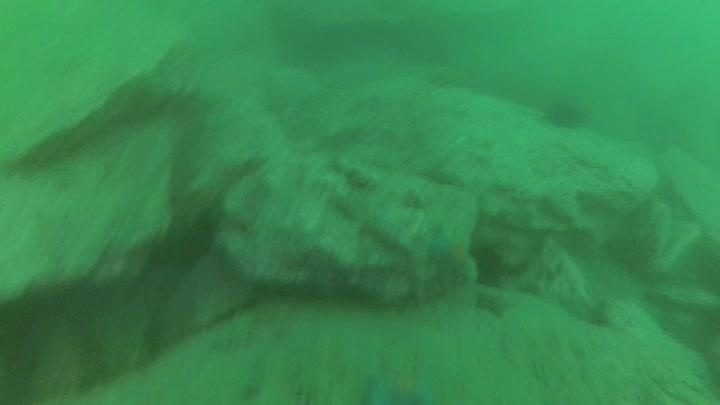echinus: (467, 240, 508, 289), (540, 96, 588, 132)
holothurian: (333, 154, 377, 187)
starfish: (359, 352, 438, 405), (425, 226, 478, 286), (471, 285, 514, 322)
